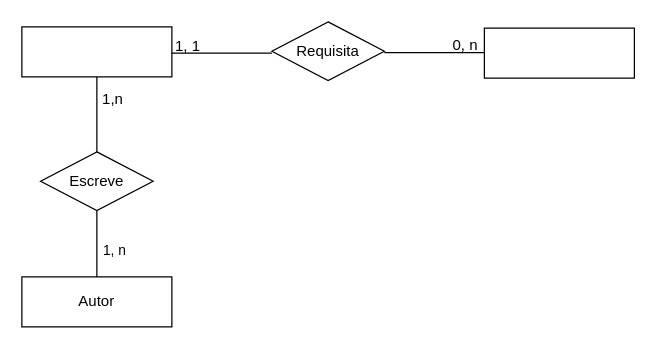
This 656x349 diagram has some shape labels left out. Here are the shapes that lost their labels. From the top down, the centre of each, then its label:
At point 96,51: "Livro".
At point 558,52: "Cliente da biblioteca".
